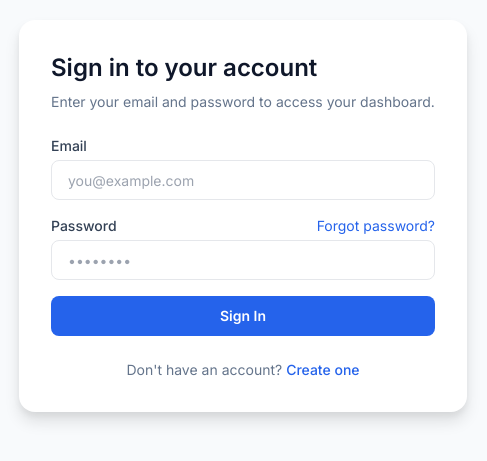
it: LoginPage › shows validation errors on empty submit
Click the button "Sign In". click: (243, 316)
box: x1=51 y1=296 x2=435 y2=336
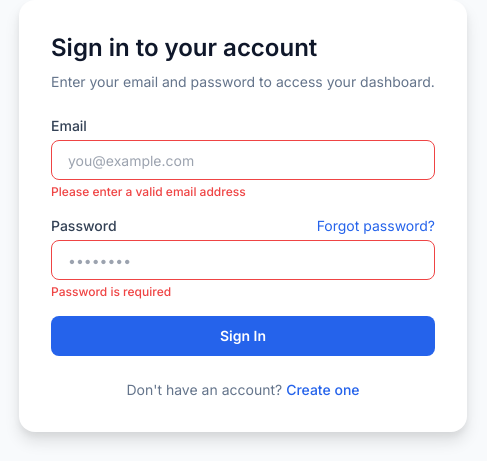
Check: the text "Please enter a valid email address" is shown, box x1=51 y1=184 x2=246 y2=199
Check: the text "Password is required" is shown, box x1=51 y1=284 x2=171 y2=299
